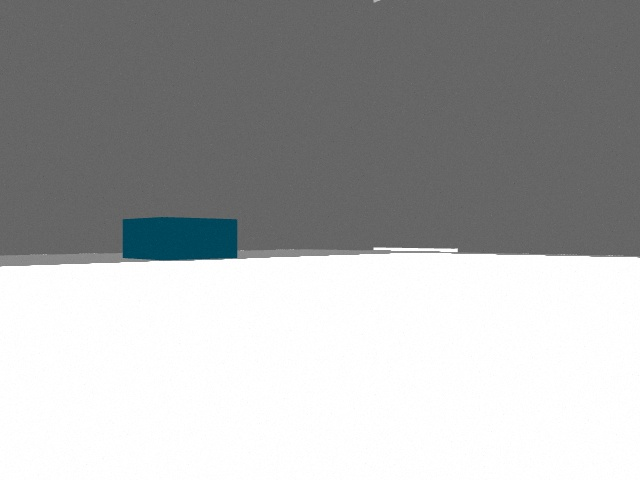blue_drop_zone: (123, 217, 237, 260)
